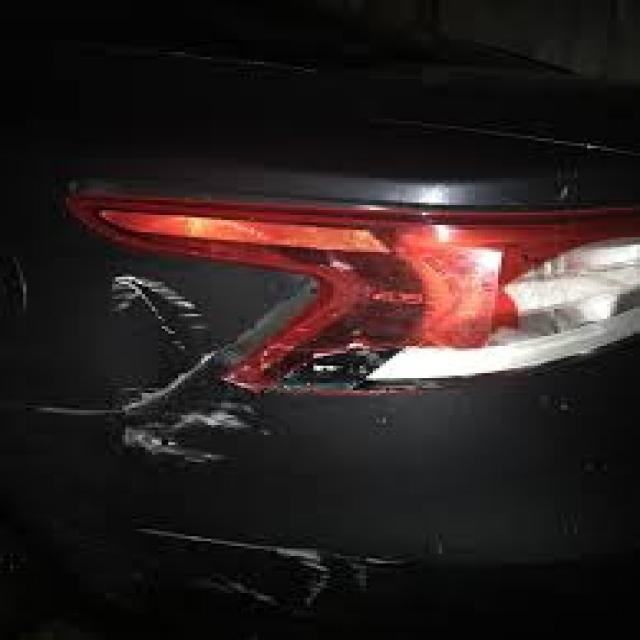damaged-tail-light: (43, 166, 640, 400)
